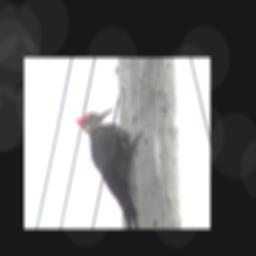Woodpecker: (73, 107, 144, 229)
